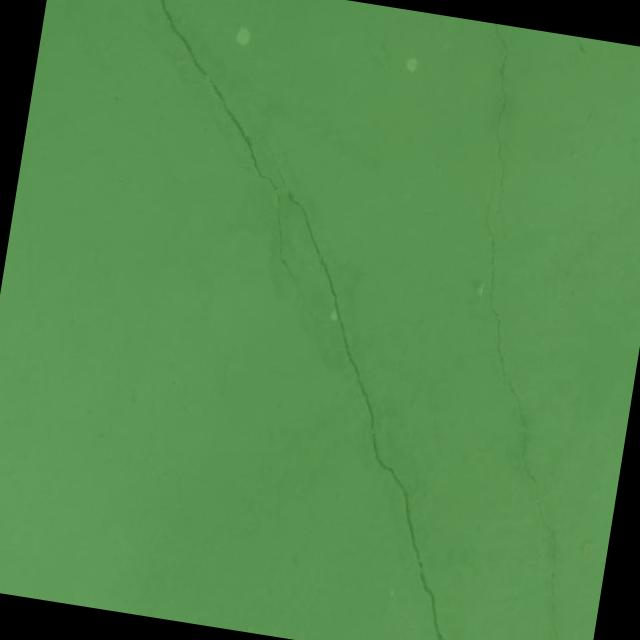crack: (188, 137, 535, 640), (102, 0, 361, 314), (462, 376, 615, 640), (460, 182, 538, 385), (464, 24, 537, 232)
